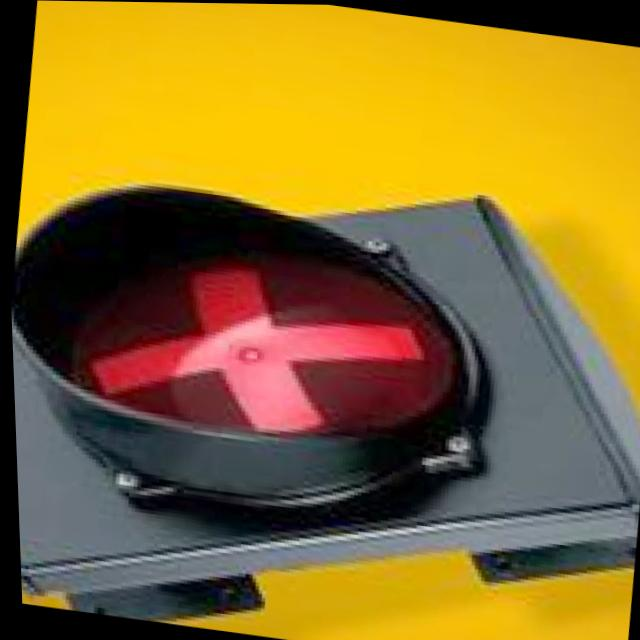red_light: (12, 78, 469, 566)
